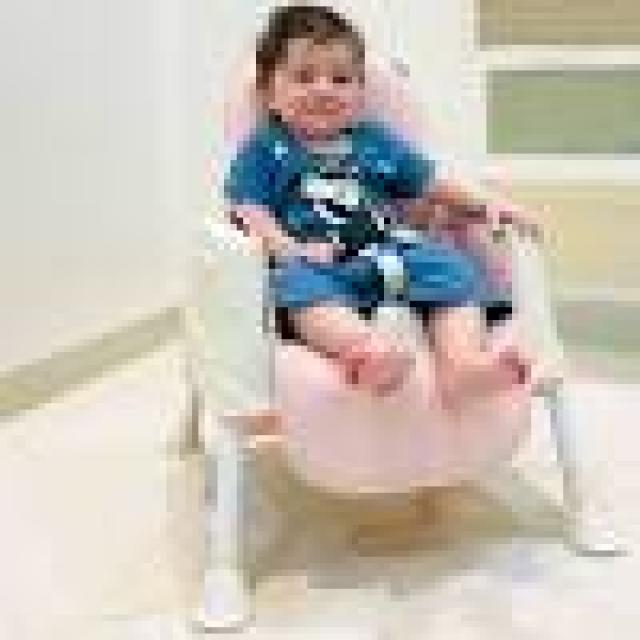chair: (113, 5, 635, 640)
